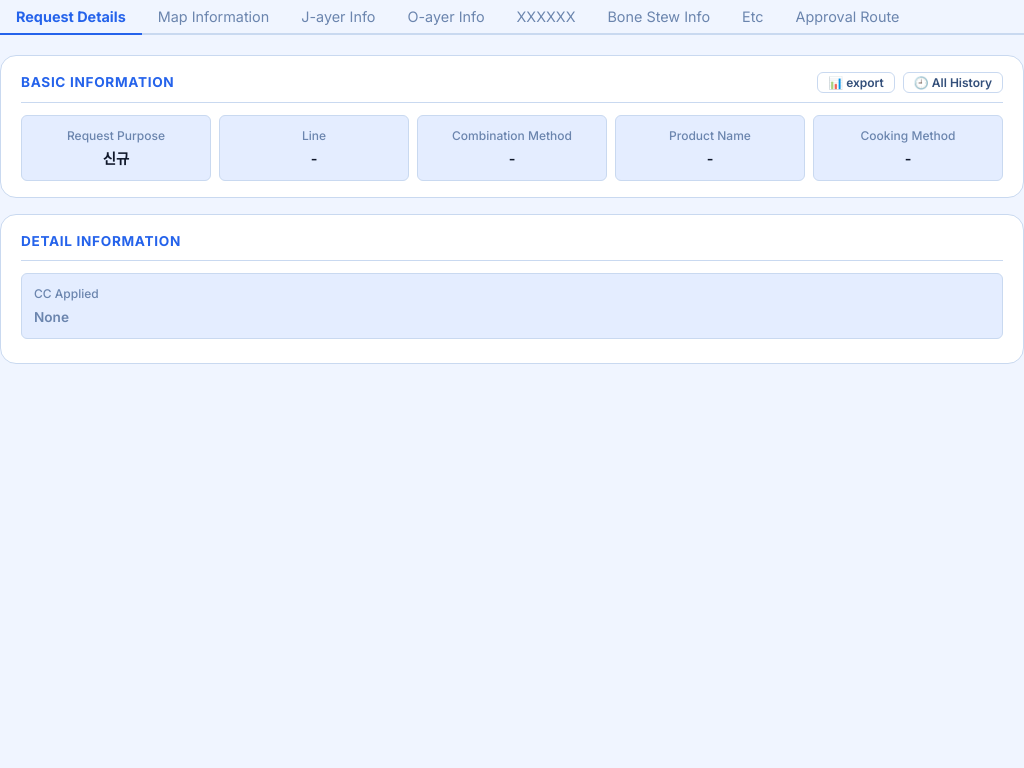
결재 경로 탭 — SA 행 미지정 사유 › 회차별 기록이 없으면(기존 문서 등) 사유 없이 해당없음만 보인다
The image size is (1024, 768).
Click the button "Approval Route": (847, 18) [780, 0, 915, 35]
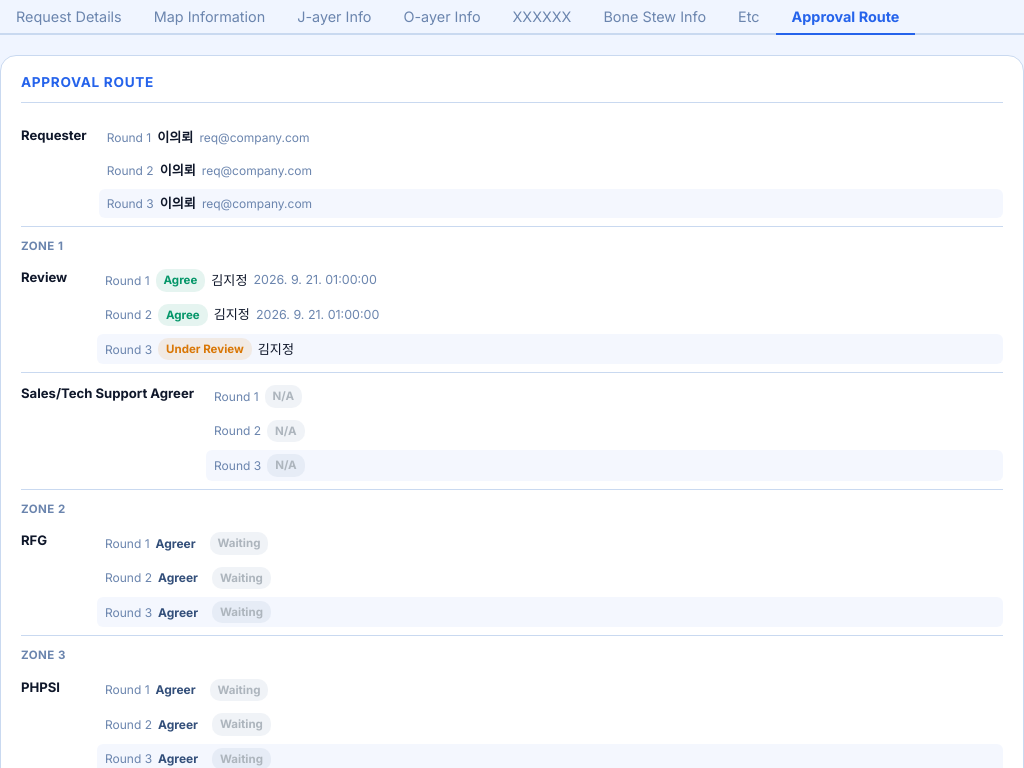
Expected: the text "N/A" is shown 3 times, [265, 385, 302, 408]; [267, 420, 305, 442]; [267, 454, 305, 477]
